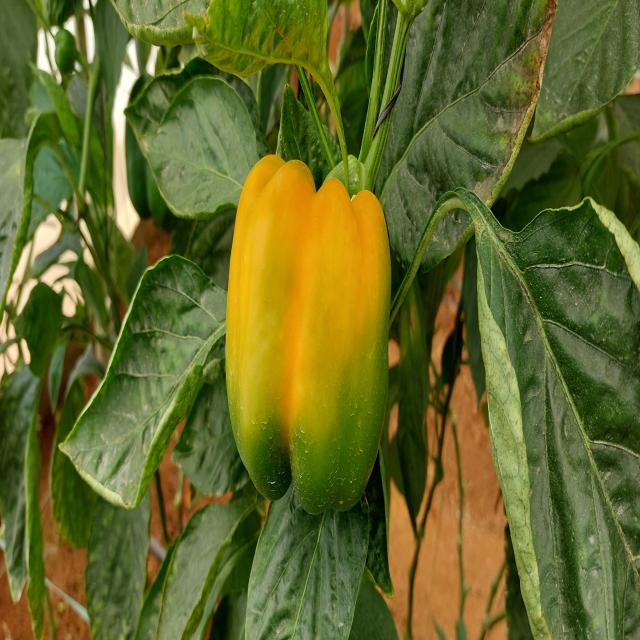GreenishYellow--Can-be-Harvested: (227, 124, 406, 536)
